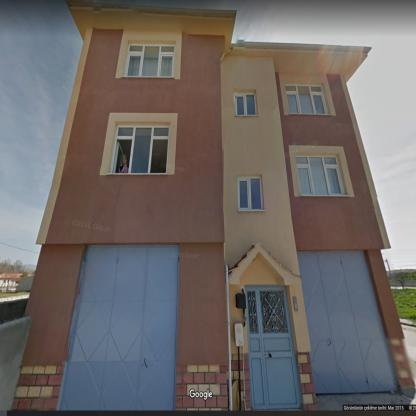door: (245, 286, 300, 408), (135, 300, 177, 410), (304, 294, 340, 393)
window: (110, 126, 168, 172), (296, 155, 344, 195), (123, 43, 174, 77), (286, 85, 328, 114), (239, 177, 263, 209), (235, 92, 257, 115)
